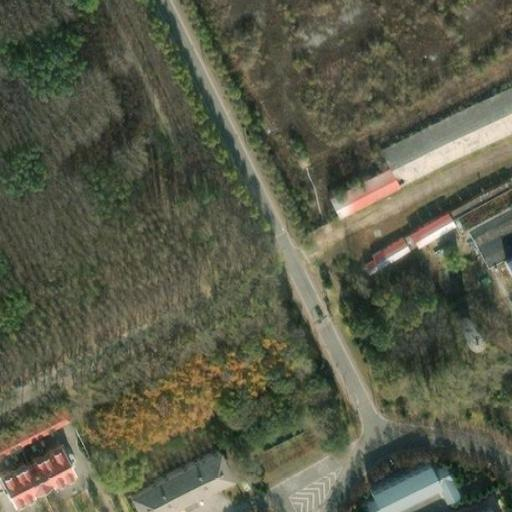building: (330, 100, 512, 209), (134, 454, 230, 512), (360, 461, 453, 512), (2, 451, 71, 506), (353, 236, 400, 272), (455, 309, 489, 353), (406, 211, 450, 243)
